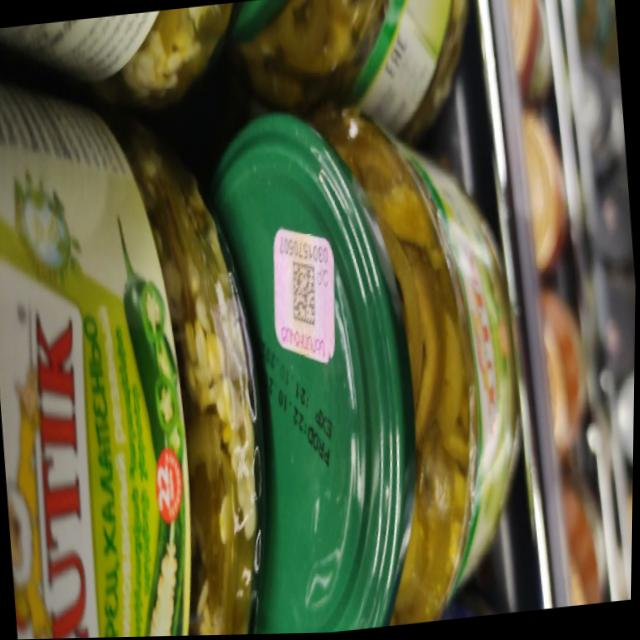datamatrix: (286, 253, 322, 336)
